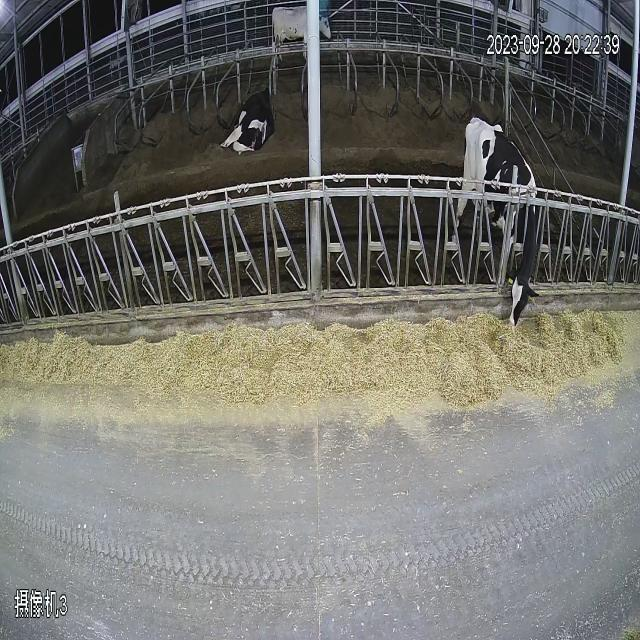feeding: (458, 84, 544, 390)
lying down: (201, 32, 277, 238)
standing: (268, 0, 343, 60)
